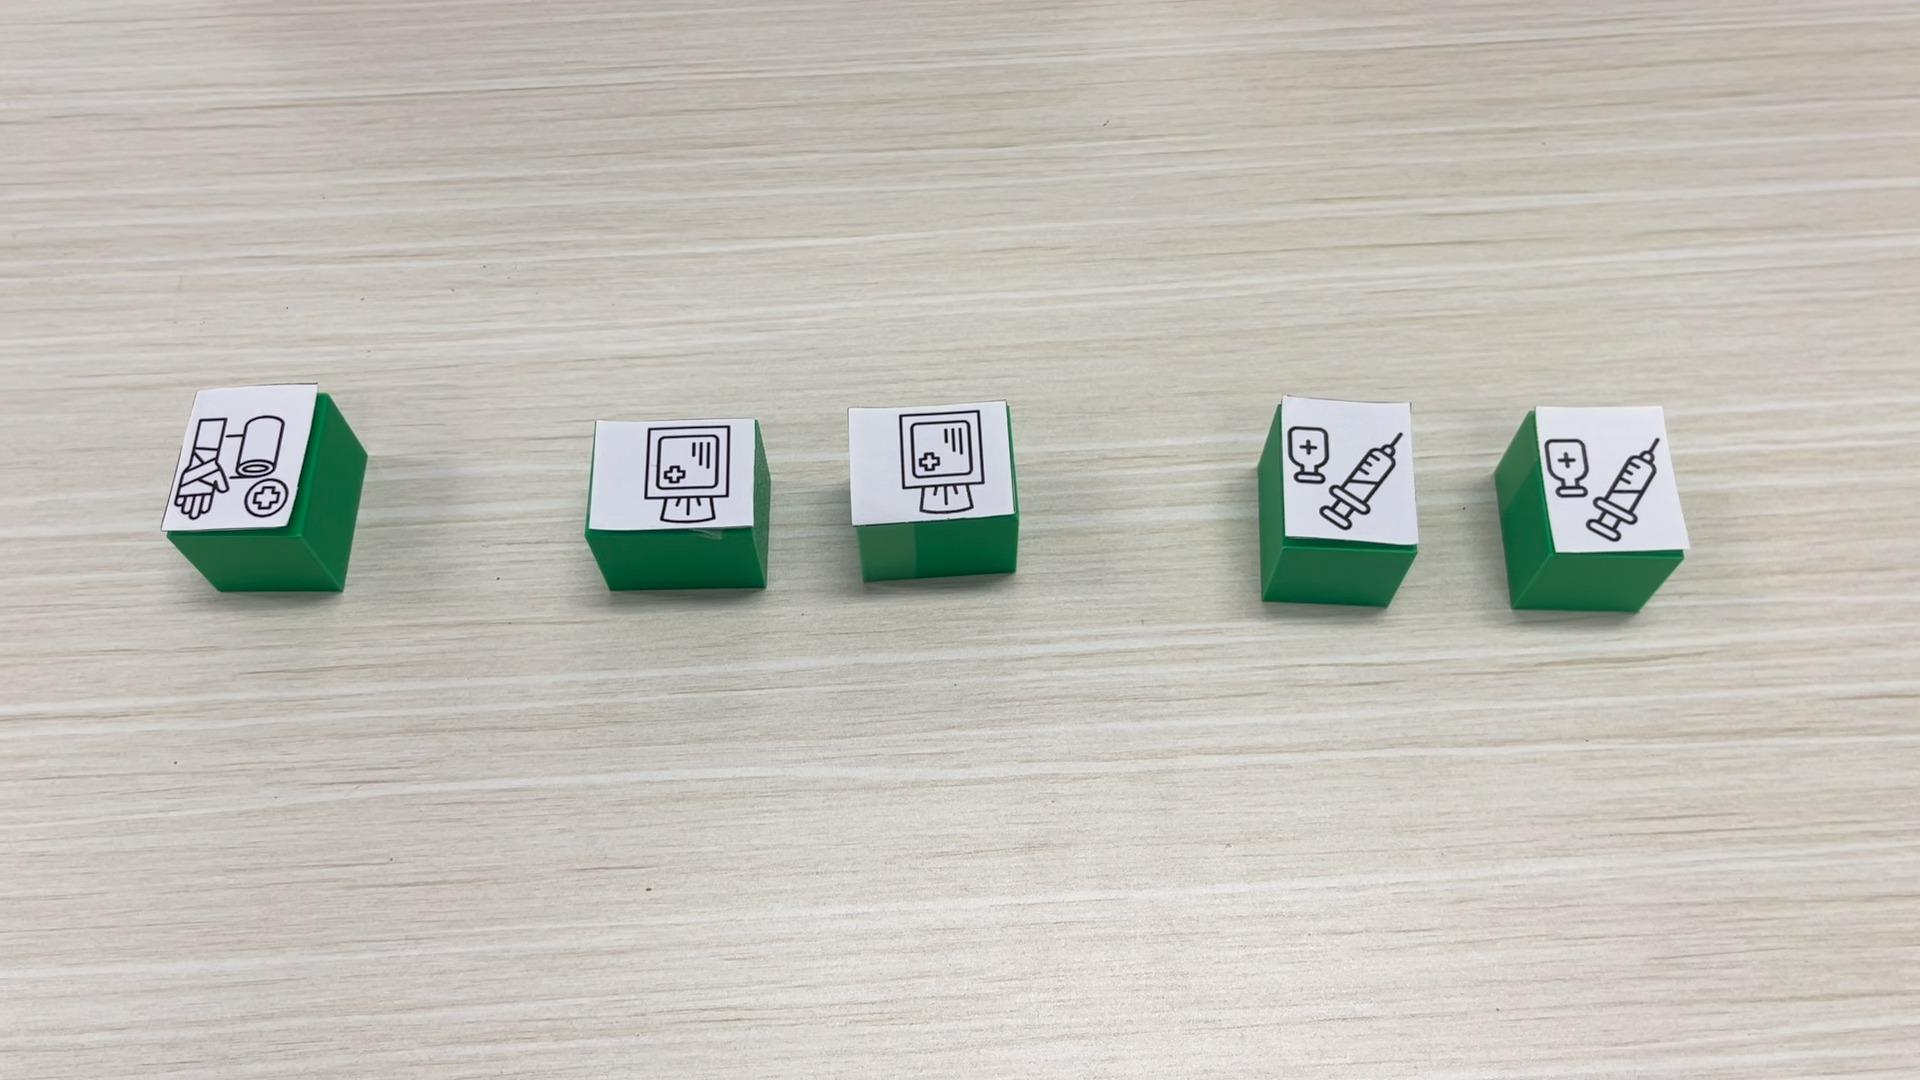Bandages: (162, 382, 365, 593)
Gauze: (583, 415, 767, 589), (845, 400, 1021, 582)
antiseptic cream: (1493, 401, 1691, 615), (1255, 393, 1422, 608)
